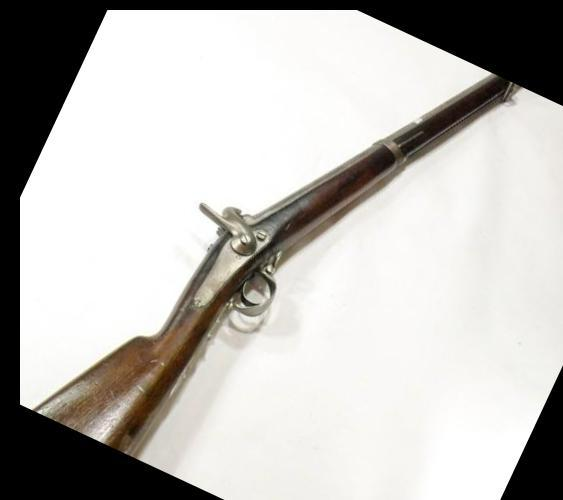larga: (30, 73, 521, 460)
